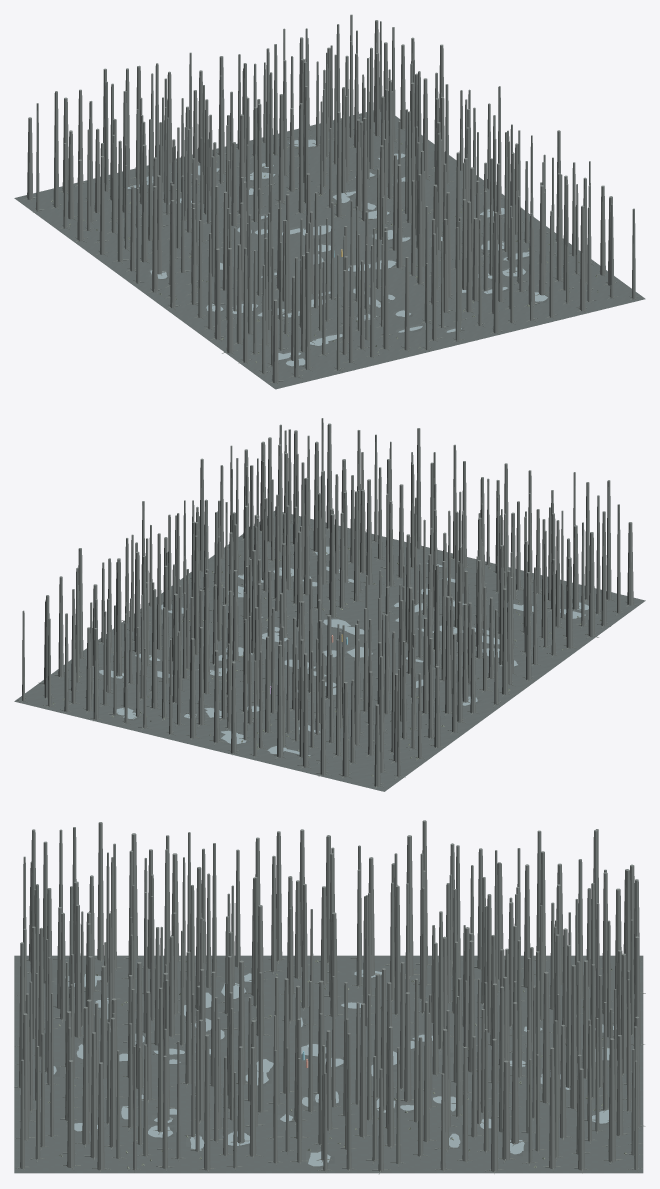
Rendered from WORLD_MASTER_SCENE.glb.
The picture shows the model from 3 angles, top to bottom: view 1: azimuth 30°, elevation 25°; view 2: azimuth 150°, elevation 25°; view 3: azimuth 270°, elevation 25°; orthographic projection. The views are drawn at different scales.
Visible parts, largest first — view 1: MUD_GROUND_90x110m, EXPOSED_ROOTS, T077, T021, T198, REVEAL_R, T175, T160, T283, T209, T267, T148 (+9 smaller); view 2: MUD_GROUND_90x110m, EXPOSED_ROOTS, T077, T040, T079, T214, T127, T198, T160, T094, T049, T275 (+17 smaller); view 3: MUD_GROUND_90x110m, EXPOSED_ROOTS, T079, T214, T134, T075, T153, T052, T108, T276, T064, T088 (+107 smaller).
Boxes of the visible parts, box(x1,y1,x2,y2) form: MUD_GROUND_90x110m: box(14, 110, 645, 389); EXPOSED_ROOTS: box(23, 115, 638, 384); T077: box(141, 144, 147, 262); T021: box(539, 185, 545, 295); T198: box(226, 248, 233, 353); REVEAL_R: box(278, 94, 284, 203); T175: box(466, 201, 472, 312); T160: box(117, 140, 122, 261); T283: box(396, 164, 402, 268); T209: box(493, 212, 498, 333); T267: box(383, 230, 388, 349); T148: box(53, 91, 59, 207); MUD_GROUND_90x110m: box(14, 510, 645, 791); EXPOSED_ROOTS: box(17, 513, 637, 788); T077: box(445, 596, 451, 713); T040: box(277, 644, 283, 757); T079: box(116, 558, 121, 676); T214: box(151, 589, 157, 708); T127: box(304, 477, 309, 595); T198: box(588, 532, 595, 637); T160: box(457, 601, 462, 722); T094: box(354, 623, 359, 745); T049: box(303, 653, 308, 767); T275: box(502, 588, 508, 694); MUD_GROUND_90x110m: box(14, 955, 643, 1173); EXPOSED_ROOTS: box(14, 957, 645, 1174); T079: box(511, 1002, 518, 1144); T214: box(570, 965, 577, 1108); T134: box(542, 971, 549, 1103); T075: box(82, 1007, 89, 1145); T153: box(359, 1003, 366, 1137); T052: box(491, 1038, 498, 1171); T108: box(109, 1017, 116, 1147); T276: box(97, 822, 103, 960); T064: box(74, 904, 81, 1037); T088: box(608, 1038, 615, 1162).
Size of the model in its own units: 91.52 by 28.06 by 111.
